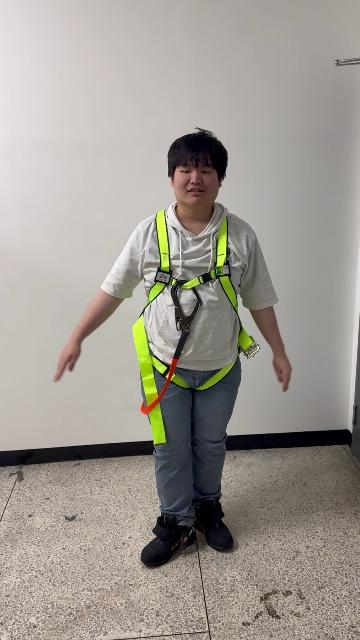helmet_not_worn: (166, 130, 231, 193)
shoe_worn: (140, 513, 195, 567), (193, 498, 232, 551)
vest_worn: (130, 212, 255, 440)
